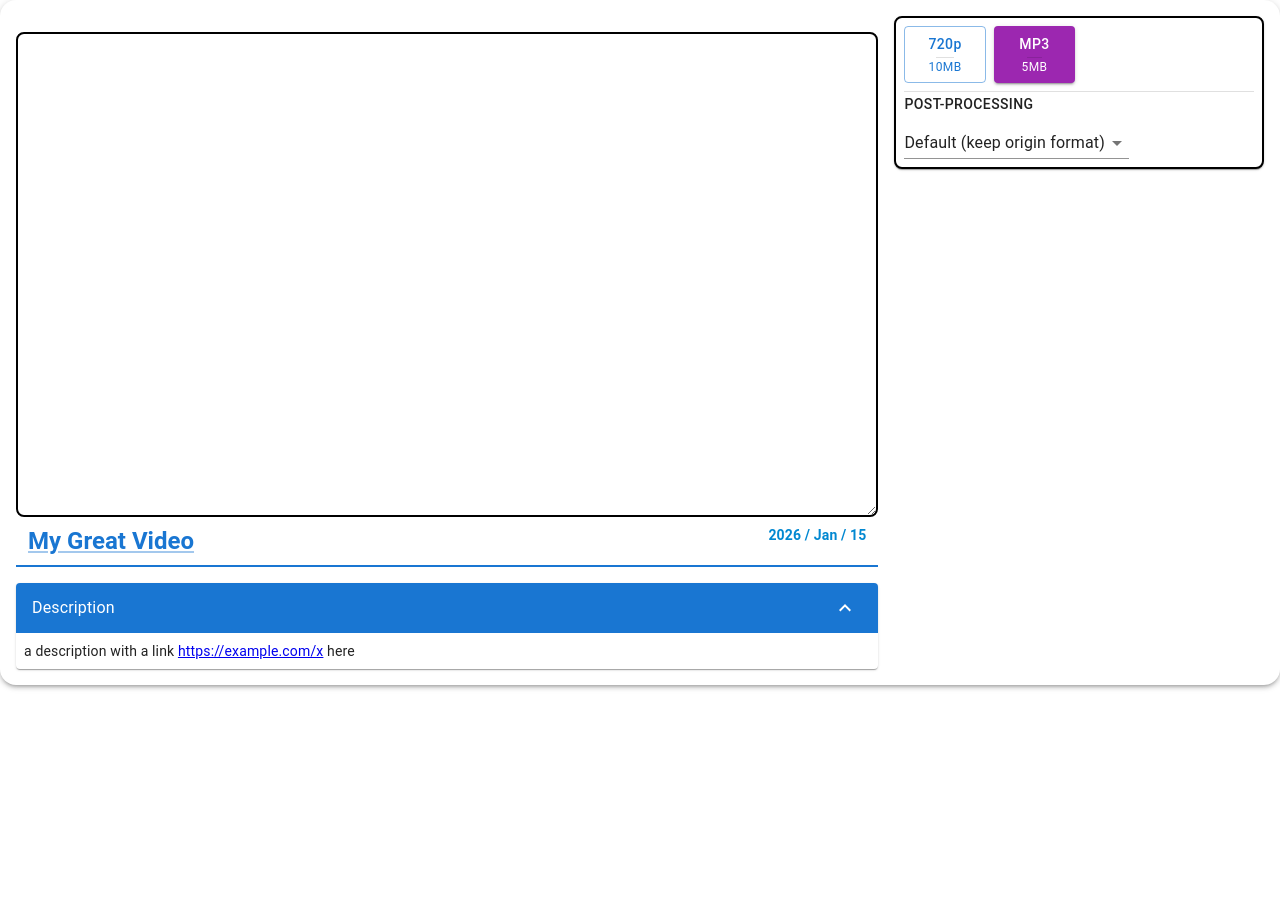
Test: VideoDetailCard › shows a failure state with bug-report details on a download error
Click the button "720p 10Mb".
click(945, 55)  # box x1=904 y1=26 x2=986 y2=83
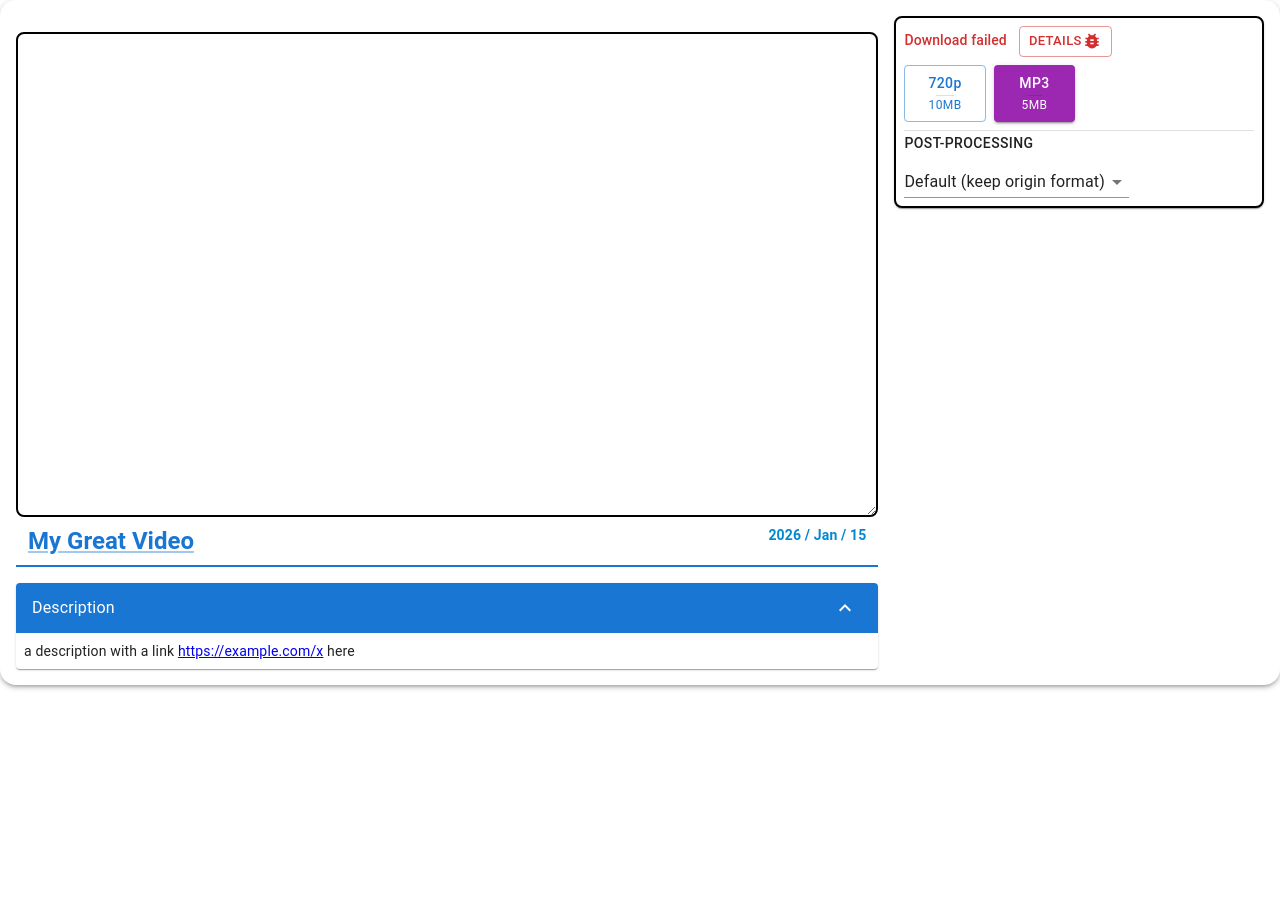
Check: the heading "Download failed" is shown, box x1=904 y1=30 x2=1007 y2=52
Click the button "Details".
click(1065, 41)  # box x1=1019 y1=26 x2=1112 y2=57
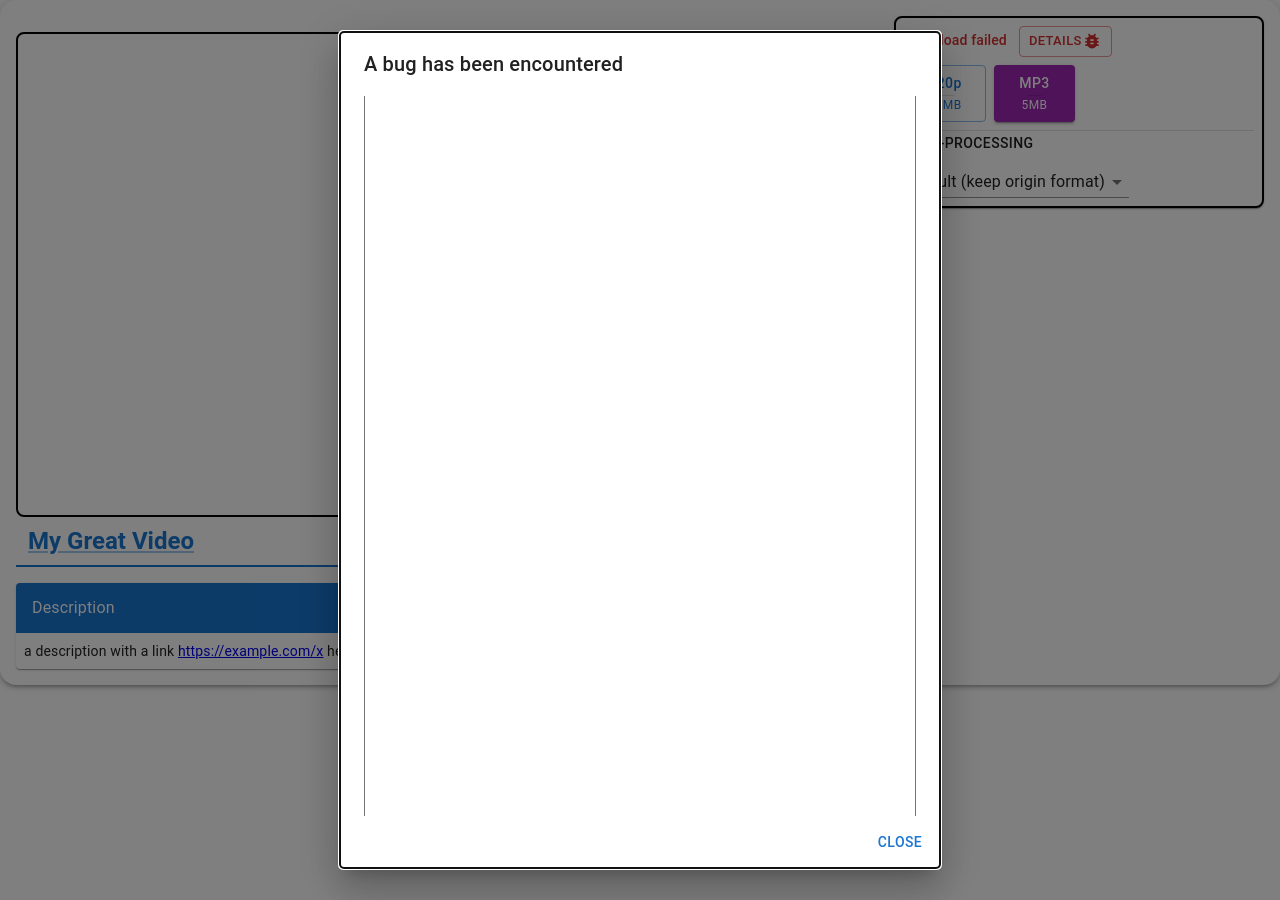
Check: the heading "A bug has been encountered" is shown, box x1=364 y1=52 x2=623 y2=76
